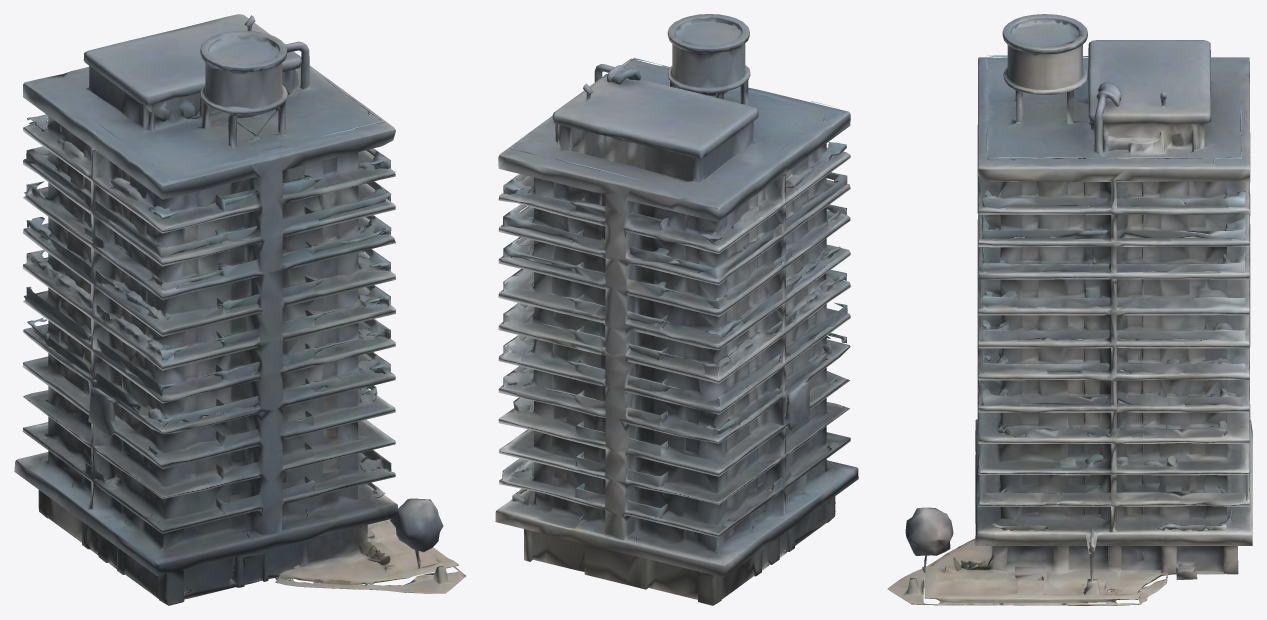
File: cid_residencial.glb
3 views of the same model, side by side, from view 1: azimuth 30°, elevation 25°; view 2: azimuth 150°, elevation 25°; view 3: azimuth 270°, elevation 25° (orthographic). The views are drawn at different scales.
Visible parts, largest first — view 1: tripo_node_bd5a3772-820d-447a-94f4-05945bdd155f; view 2: tripo_node_bd5a3772-820d-447a-94f4-05945bdd155f; view 3: tripo_node_bd5a3772-820d-447a-94f4-05945bdd155f.
Part boxes in pixels (x1=…): tripo_node_bd5a3772-820d-447a-94f4-05945bdd155f: x1=14, y1=14, x2=465, y2=605; tripo_node_bd5a3772-820d-447a-94f4-05945bdd155f: x1=495, y1=14, x2=858, y2=605; tripo_node_bd5a3772-820d-447a-94f4-05945bdd155f: x1=887, y1=14, x2=1252, y2=605.
Size of the model in its own units: 0.5363 by 0.9469 by 0.6264.
1 material, 1 textured.
